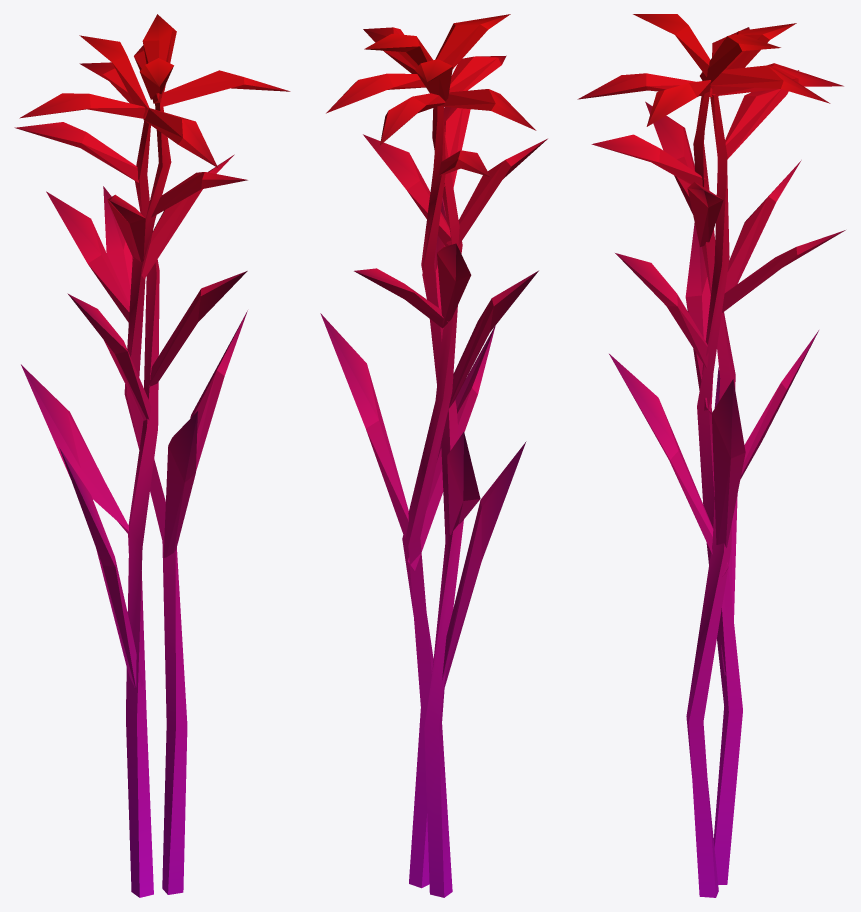
The model's file is synty-plant-05.gltf.
The picture shows the model from 3 angles, left to right: view 1: azimuth 30°, elevation 25°; view 2: azimuth 150°, elevation 25°; view 3: azimuth 270°, elevation 25°; orthographic projection.
Visible parts, largest first — view 1: SM_Plant_05; view 2: SM_Plant_05; view 3: SM_Plant_05.
Part boxes in pixels (x1,y1,x2,y2): SM_Plant_05: [14, 14, 290, 897]; SM_Plant_05: [320, 14, 547, 897]; SM_Plant_05: [577, 14, 845, 897].
Bounding box in the file's own units: 0.8291 × 3.02 × 0.8607.
